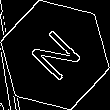N_SE: (23, 23, 87, 87)
